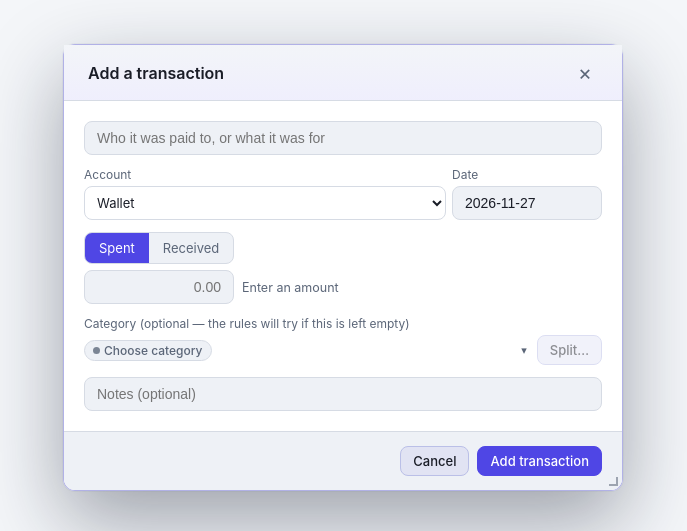
Test case: AddTransactionDialog › surfaces a refusal from the server rather than closing as if it worked
The width and height of the screenshot is (687, 531).
expect the field named "Amount" is shown: met, box [84,270,234,304]
In the field named "Payee or description": (343,138) [84,121,602,155], type "Corner Cafe"
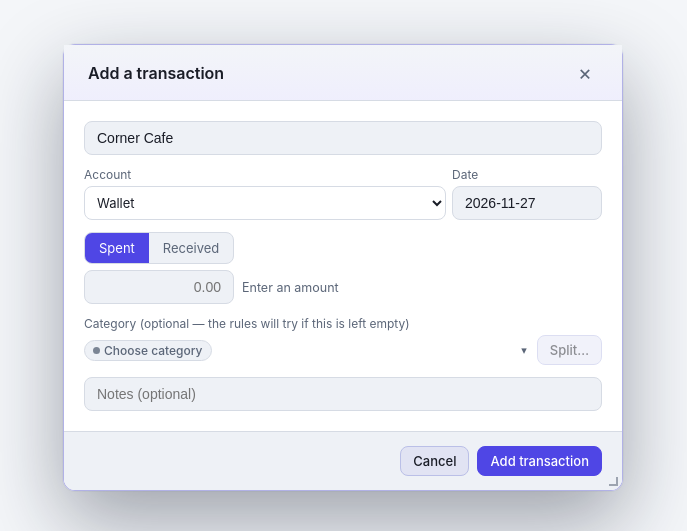
In the field named "Amount": (159,287) [84,270,234,304], type "12.50"
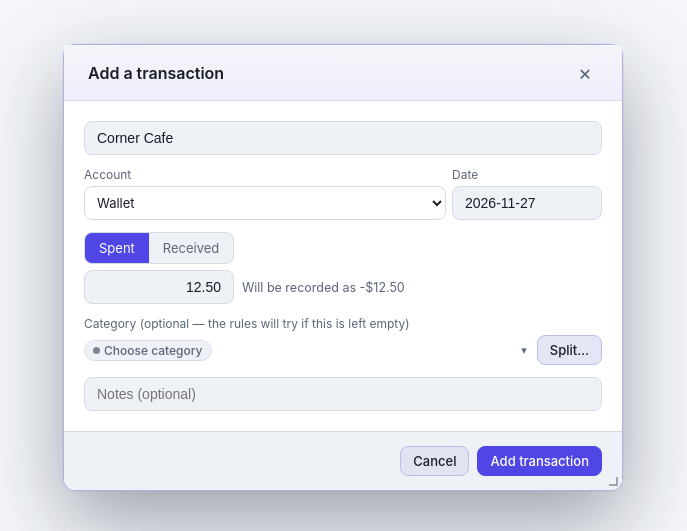
Click the button "Add transaction": (540,461) [478,446,602,476]
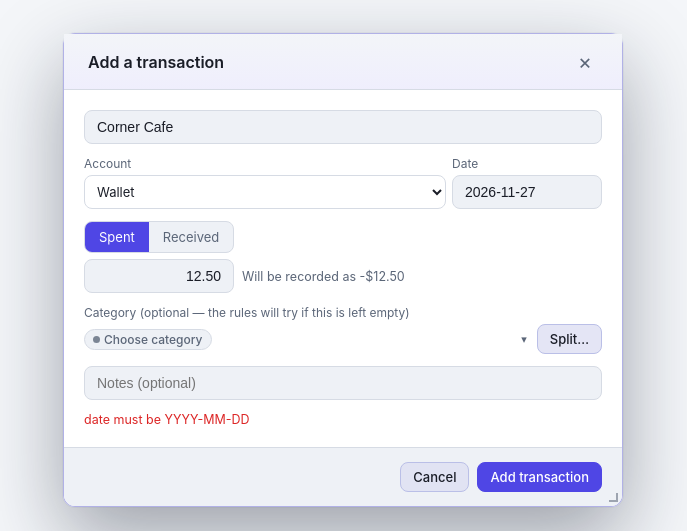
expect the text "date must be YYYY-MM-DD" is shown: met, box [84,412,250,427]
